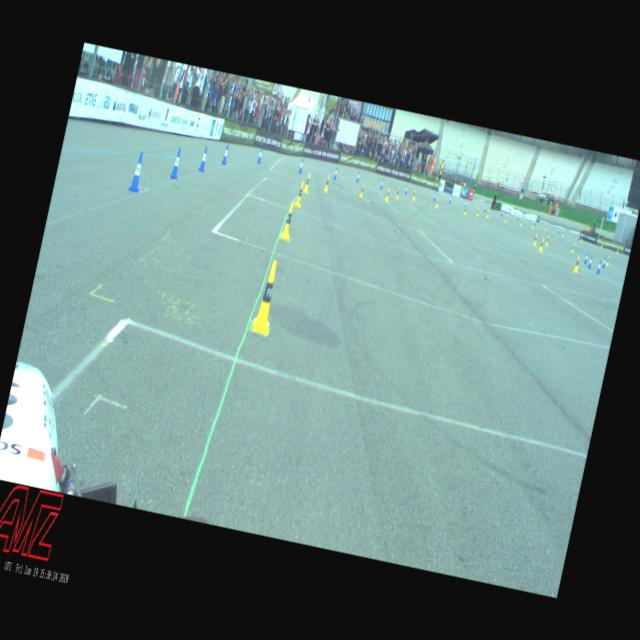blue_cone: (128, 150, 146, 192), (169, 146, 183, 179), (198, 146, 209, 172), (220, 142, 230, 164), (256, 146, 263, 164), (298, 158, 304, 173), (596, 260, 602, 274), (332, 166, 338, 180), (587, 256, 593, 269), (582, 252, 588, 264), (601, 256, 606, 268), (355, 170, 360, 182), (380, 178, 384, 189), (404, 185, 408, 194), (432, 192, 436, 201), (448, 196, 452, 204)
yellow_cone: (250, 258, 283, 335), (279, 200, 297, 240), (294, 180, 305, 208), (303, 172, 312, 193), (322, 174, 330, 192), (572, 255, 580, 272), (358, 182, 365, 198), (384, 186, 390, 201), (538, 237, 544, 251), (532, 232, 538, 245), (394, 187, 400, 200), (544, 235, 549, 246), (412, 188, 416, 200), (434, 196, 438, 208), (605, 255, 609, 266), (570, 243, 574, 253), (503, 214, 508, 222), (476, 207, 480, 216), (486, 209, 490, 218), (463, 206, 467, 214), (518, 218, 522, 226), (542, 223, 546, 231)
